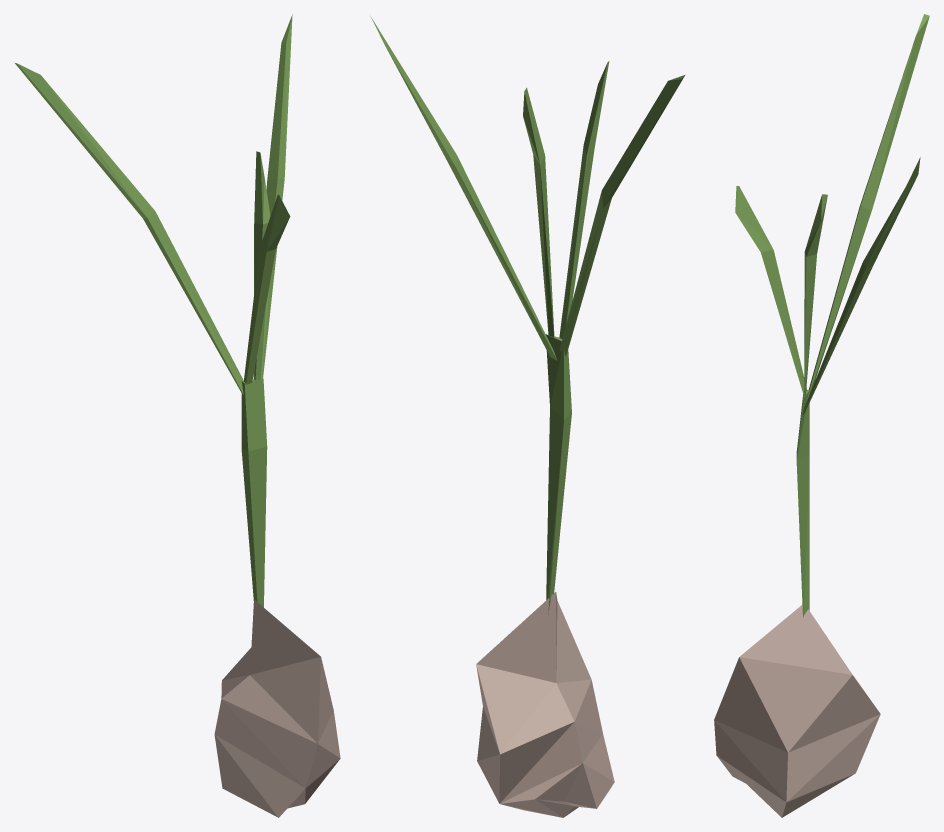
Rendered from Garlic_1.fbx.
The picture shows the model from 3 angles, left to right: view 1: azimuth 30°, elevation 25°; view 2: azimuth 150°, elevation 25°; view 3: azimuth 270°, elevation 25°; orthographic projection. The views are drawn at different scales.
Parts seen in each view (by area): view 1: Garlic_1; view 2: Garlic_1; view 3: Garlic_1.
Part boxes in pixels (left/top/right/bottom): Garlic_1: left=15, top=14, right=340, bottom=817; Garlic_1: left=370, top=16, right=685, bottom=817; Garlic_1: left=714, top=14, right=929, bottom=817.
Size of the model in its own units: 13.49 by 34.8 by 9.66.
